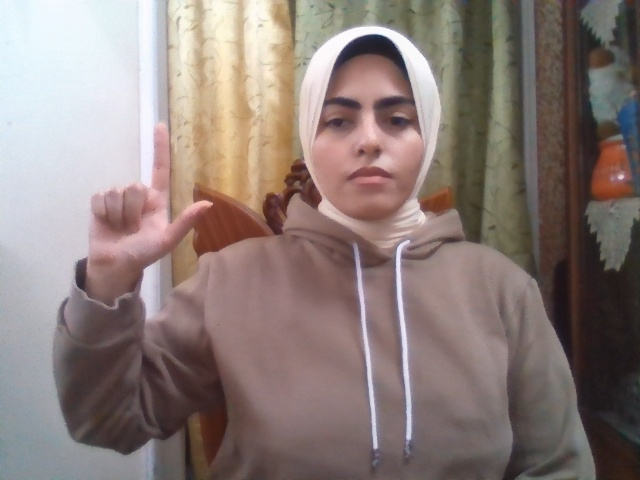L: (86, 123, 212, 269)
